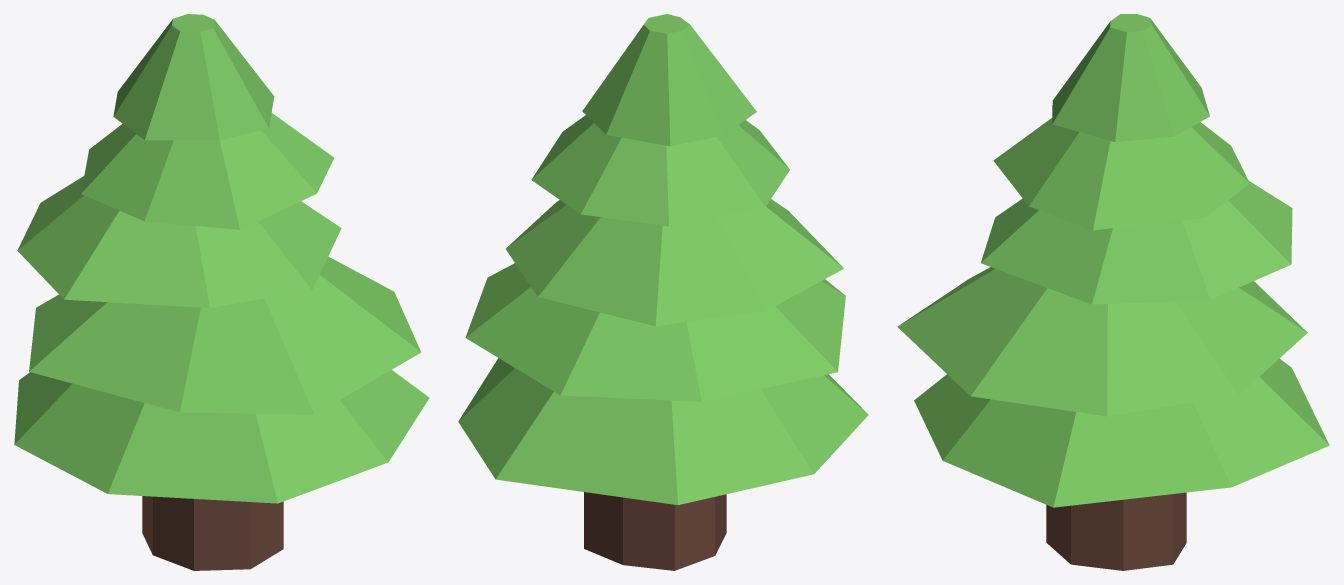
File: Tree 2.fbx
3 renders of one model, left to right at view 1: azimuth 30°, elevation 25°; view 2: azimuth 150°, elevation 25°; view 3: azimuth 270°, elevation 25°, orthographic. The views are drawn at different scales.
Visible parts, largest first — view 1: BlätterUnten, Cube; view 2: BlätterUnten, Cube; view 3: BlätterUnten, Cube.
Boxes of the visible parts, bbox=[...] form: BlätterUnten: bbox=[14, 14, 429, 503]; Cube: bbox=[142, 496, 283, 570]; BlätterUnten: bbox=[458, 14, 868, 504]; Cube: bbox=[584, 492, 726, 570]; BlätterUnten: bbox=[897, 14, 1329, 507]; Cube: bbox=[1046, 492, 1186, 570].
Bounding box in the file's own units: 813 × 1106 × 845.
